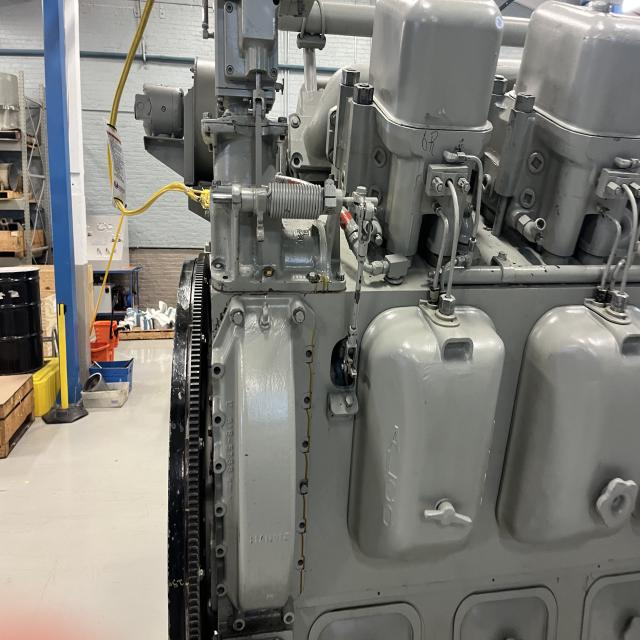Oil Leak: (295, 329, 315, 594), (312, 272, 332, 296)
